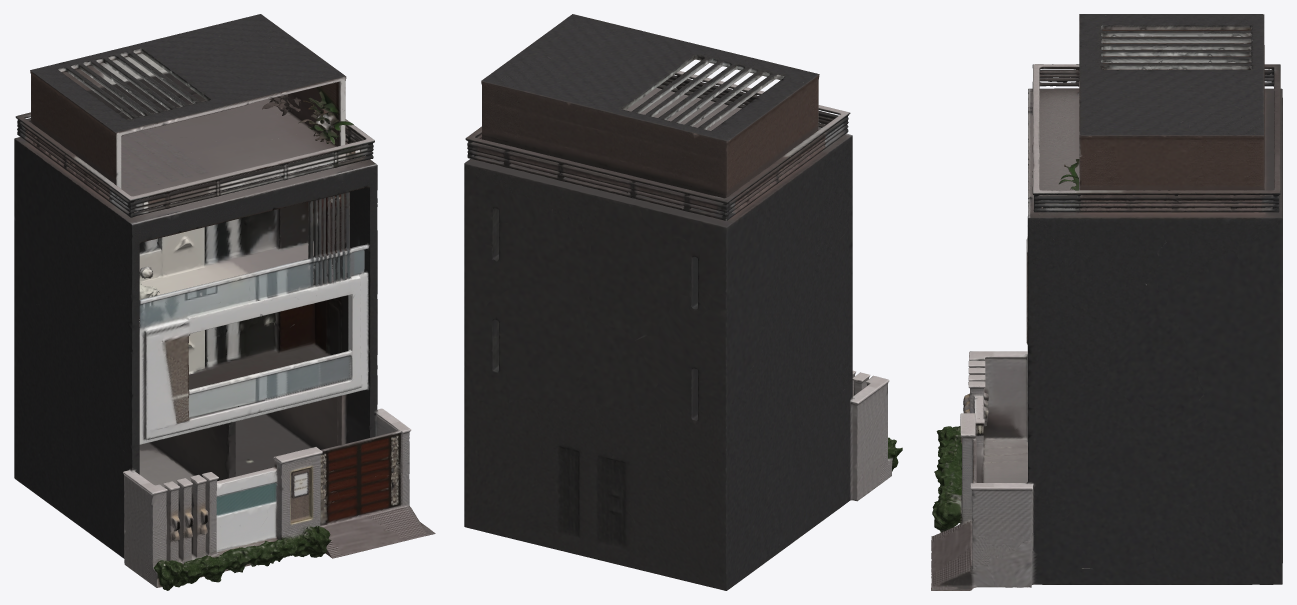
Rendered from villa-22-6th-park.glb.
3 views of the same model, side by side, from view 1: azimuth 30°, elevation 25°; view 2: azimuth 150°, elevation 25°; view 3: azimuth 270°, elevation 25° (orthographic). The views are drawn at different scales.
Size of the model in its own units: 1.29 by 1.9 by 1.36.
Materials: 1 (1 with a texture image).
